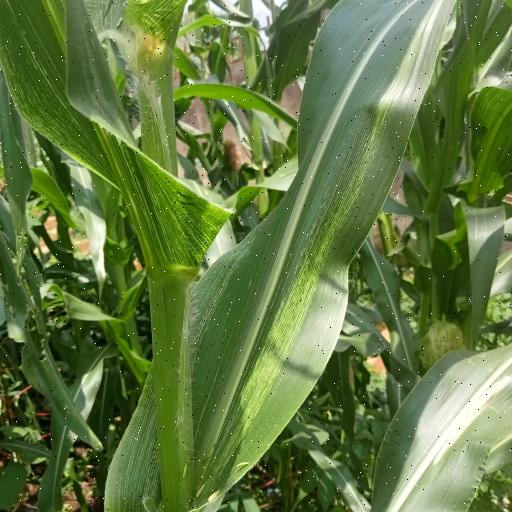Corn_Streak: (114, 0, 460, 512)
